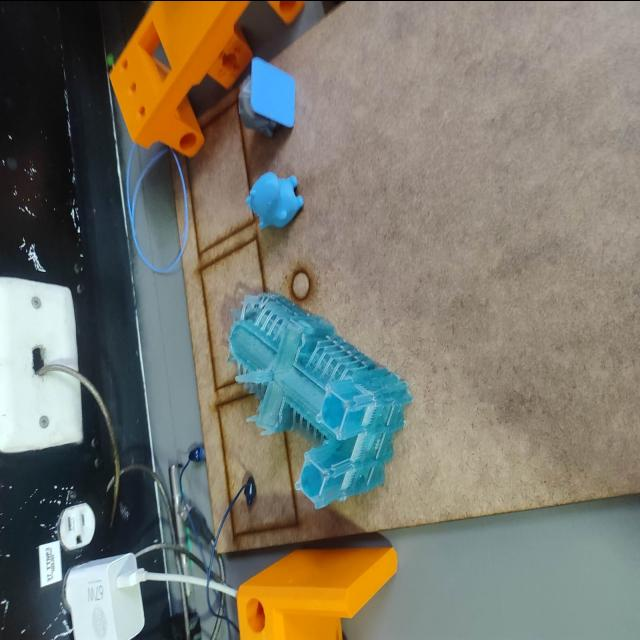DINO: (237, 158, 310, 238)
